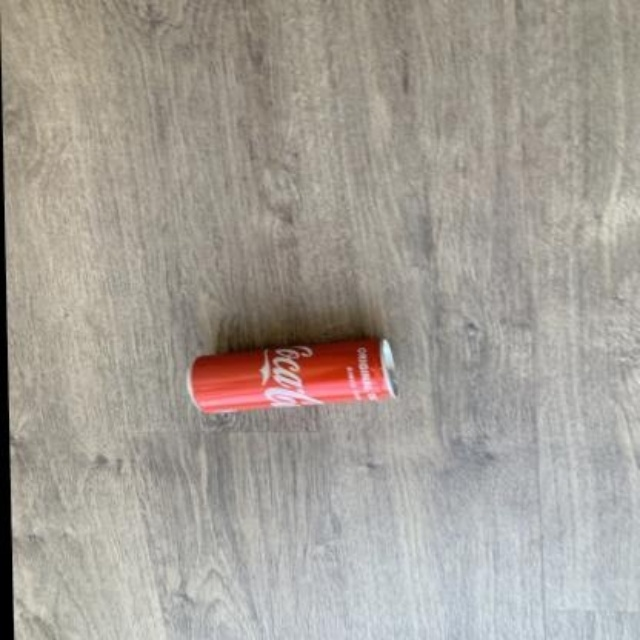trash: (188, 338, 394, 411)
